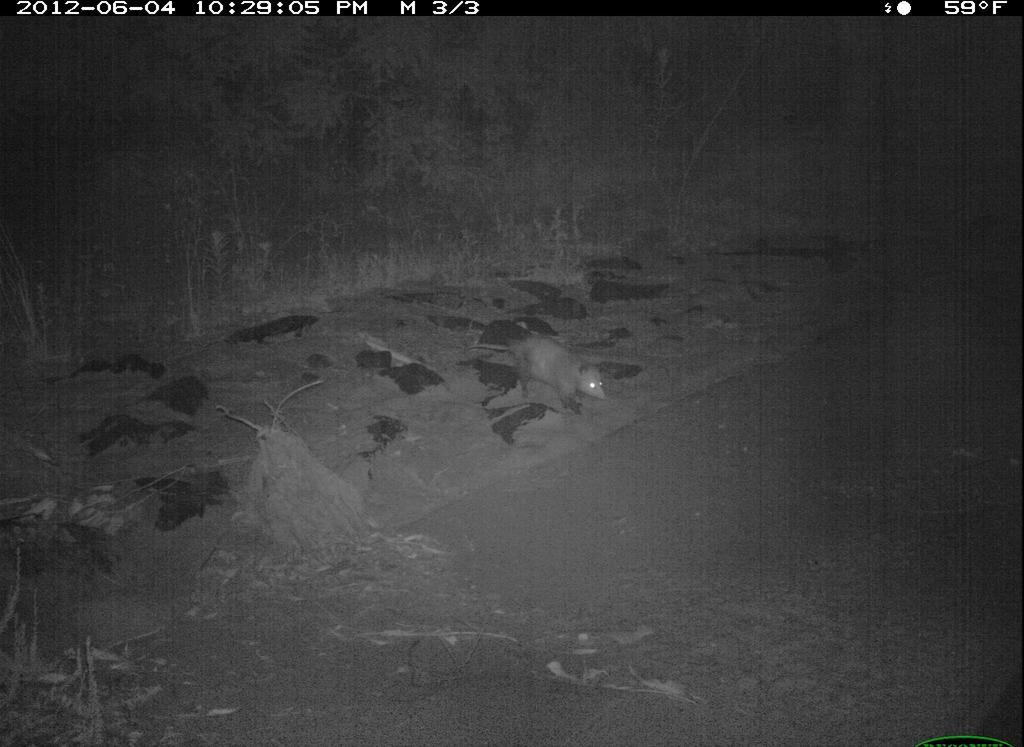opossum: (469, 326, 642, 417)
